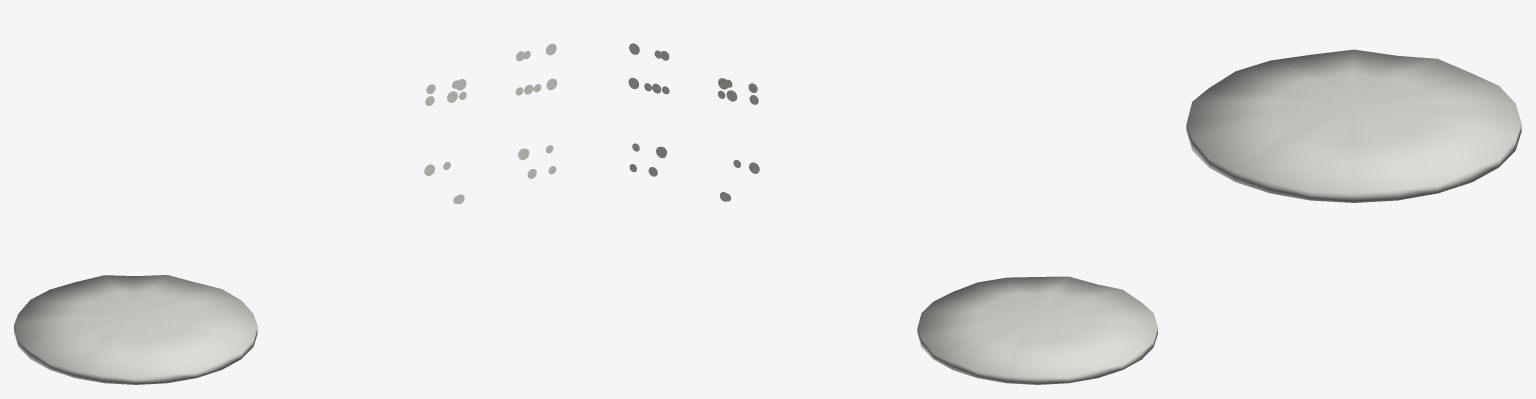
Rendered from VLAB_precipitate.fbx.
3 views of the same model, side by side, from view 1: azimuth 30°, elevation 25°; view 2: azimuth 150°, elevation 25°; view 3: azimuth 270°, elevation 25° (orthographic). The views are drawn at different scales.
Parts seen in each view (by area): view 1: VLAB_precipitate_SedimentProxy_VIS, VLAB_precipitate_SpeckAtlas_VIS; view 2: VLAB_precipitate_SedimentProxy_VIS, VLAB_precipitate_SpeckAtlas_VIS; view 3: VLAB_precipitate_SedimentProxy_VIS.
Part boxes in pixels (box(x1,y1,x2,y2)): VLAB_precipitate_SedimentProxy_VIS: box(14, 275, 257, 384); VLAB_precipitate_SpeckAtlas_VIS: box(424, 43, 557, 204); VLAB_precipitate_SedimentProxy_VIS: box(917, 276, 1157, 384); VLAB_precipitate_SpeckAtlas_VIS: box(628, 43, 759, 201); VLAB_precipitate_SedimentProxy_VIS: box(1186, 49, 1521, 202).
Size of the model in its own units: 0.093 by 0.035 by 0.036.
